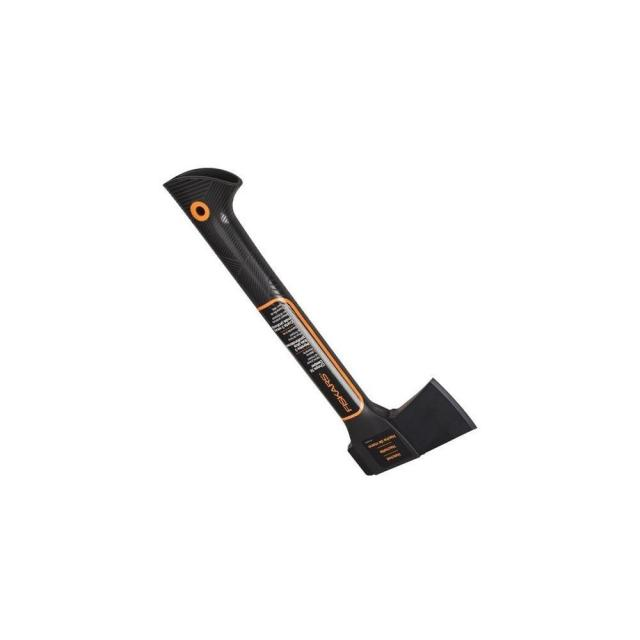Kapak: (133, 138, 490, 468)
